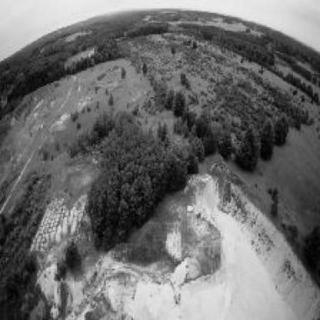other: (95, 199, 312, 313)
